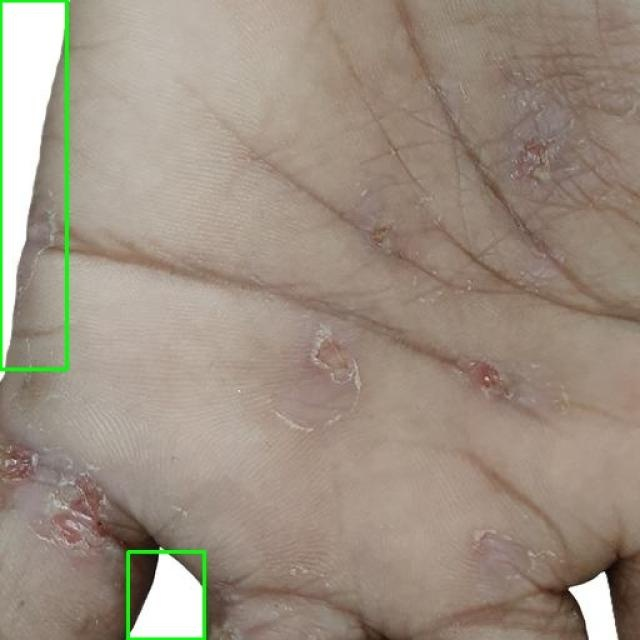Scabies: (0, 0, 66, 369), (128, 551, 204, 639)
